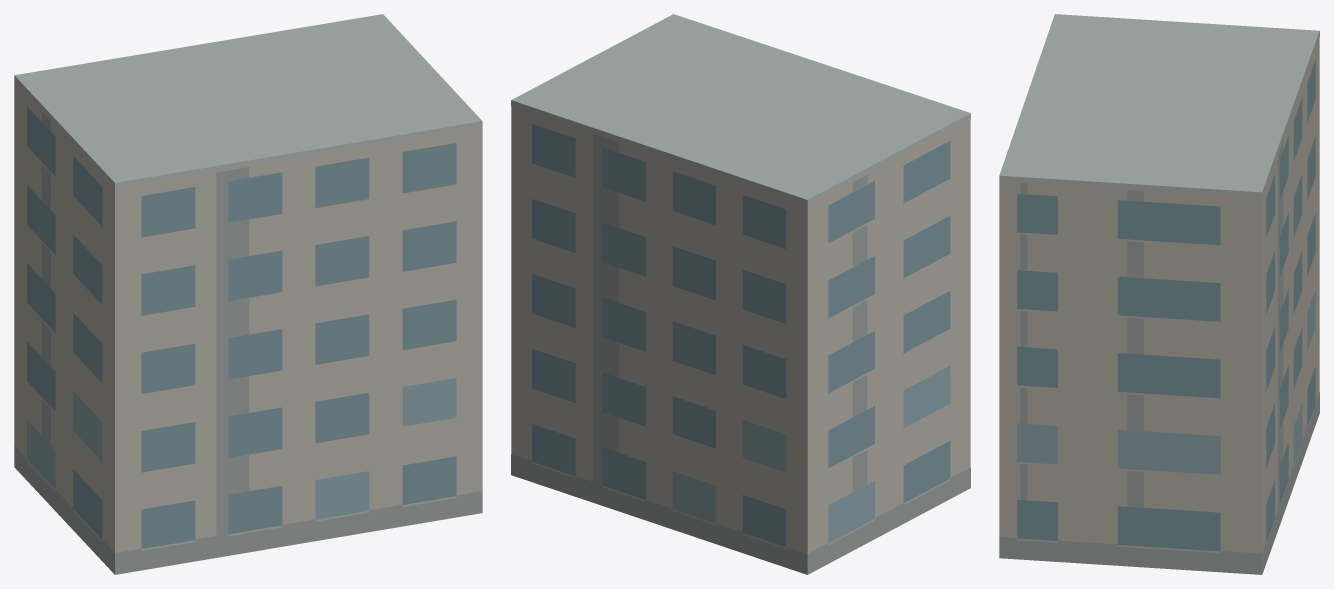
The model's file is survey-upis-32607225.glb.
3 views of the same model, side by side, from view 1: azimuth 30°, elevation 25°; view 2: azimuth 150°, elevation 25°; view 3: azimuth 270°, elevation 25° (orthographic). The views are drawn at different scales.
Visible parts, largest first — view 1: survey-upis-32607225.tmp; view 2: survey-upis-32607225.tmp; view 3: survey-upis-32607225.tmp.
Boxes of the visible parts, x1,y1,x2,y2 form: survey-upis-32607225.tmp: (14, 14, 482, 574); survey-upis-32607225.tmp: (511, 14, 970, 574); survey-upis-32607225.tmp: (999, 14, 1319, 574).
Size of the model in its own units: 14.6 by 14.6 by 11.09.
